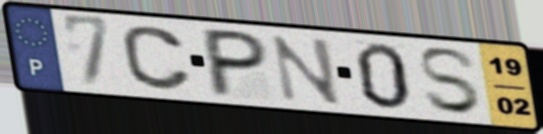0: (352, 41, 415, 112)
7: (59, 13, 113, 93)
C: (118, 23, 196, 93)
N: (267, 33, 345, 108)
P: (203, 25, 271, 99)
S: (414, 45, 486, 117)
